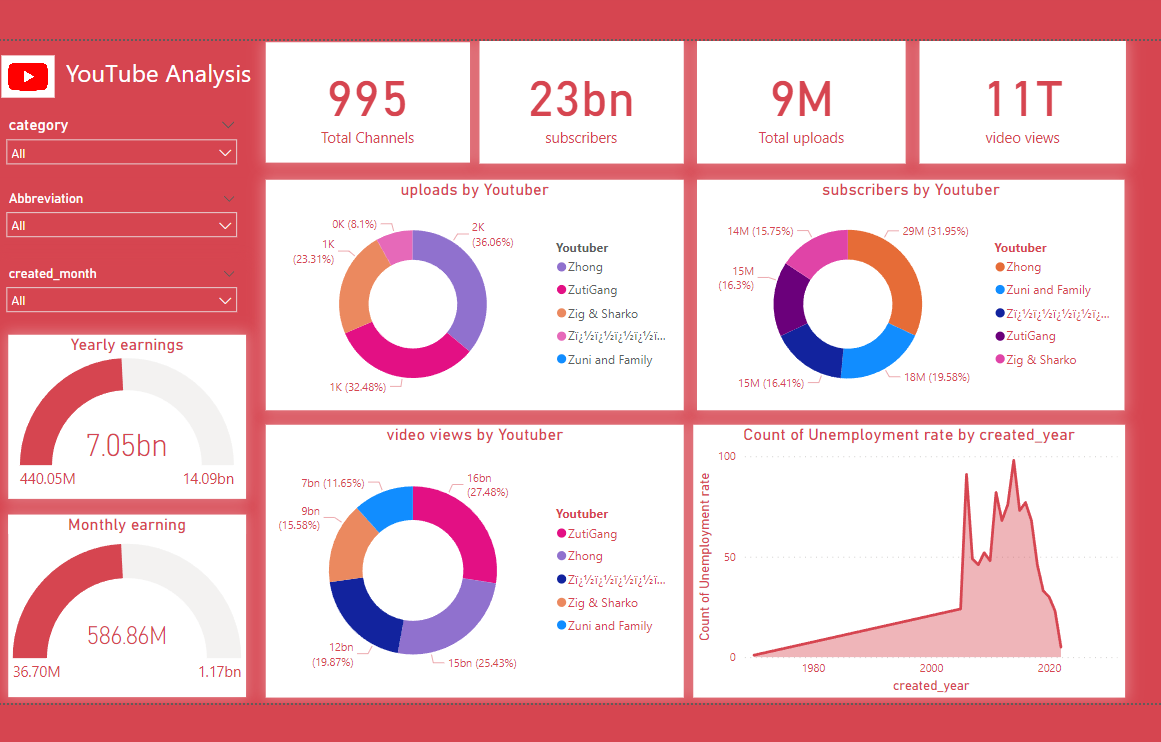

The dashboard page shown, as its layout file describes it:
{"tool":"powerbi","page":{"name":"Page 2","canvas":[1279,726],"ordinal":1},"visuals":[{"type":"donutChart","fields":{"Category":["Onyx Data -DataDNA Dataset Challenge - Top 1000 YouTubers - November 2023.Youtuber"],"Y":["Sum(Onyx Data -DataDNA Dataset Challenge - Top 1000 YouTubers - November 2023.uploads)"]},"box":[295,152.3,458.2,252.4],"z":0},{"type":"textbox","box":[0,11,284,59],"z":1000},{"type":"image","box":[0,11,68.6,56.2],"z":2000},{"type":"card","fields":{"Values":["Count(Onyx Data -DataDNA Dataset Challenge - Top 1000 YouTubers - November 2023.Youtuber)"]},"box":[295,1.4,223.6,131.7],"z":3000},{"type":"card","fields":{"Values":["Sum(Onyx Data -DataDNA Dataset Challenge - Top 1000 YouTubers - November 2023.subscribers)"]},"box":[529.6,0,223.6,134.4],"z":4000},{"type":"card","fields":{"Values":["Sum(Onyx Data -DataDNA Dataset Challenge - Top 1000 YouTubers - November 2023.uploads)"]},"box":[768.3,0,229.1,134.4],"z":5000},{"type":"card","fields":{"Values":["Sum(Onyx Data -DataDNA Dataset Challenge - Top 1000 YouTubers - November 2023.video views)"]},"box":[1011.1,0,226.4,134.4],"z":6000},{"type":"slicer","fields":{"Values":["Onyx Data -DataDNA Dataset Challenge - Top 1000 YouTubers - November 2023.category"]},"box":[0,76.8,273,72.7],"z":7000},{"type":"slicer","fields":{"Values":["Onyx Data -DataDNA Dataset Challenge - Top 1000 YouTubers - November 2023.Abbreviation"]},"box":[0,159.1,273,72.7],"z":8000},{"type":"slicer","fields":{"Values":["Onyx Data -DataDNA Dataset Challenge - Top 1000 YouTubers - November 2023.created_month"]},"box":[0,241.5,273,71.3],"z":9000},{"type":"gauge","title":"Yearly earnings ","fields":{"Y":["Sum(Onyx Data -DataDNA Dataset Challenge - Top 1000 YouTubers - November 2023.highest_yearly_earnings)"],"MinValue":["Sum(Onyx Data -DataDNA Dataset Challenge - Top 1000 YouTubers - November 2023.lowest_yearly_earnings)"]},"box":[12.3,322.4,260.7,179.7],"z":10000},{"type":"gauge","title":"Monthly earning","fields":{"Y":["Sum(Onyx Data -DataDNA Dataset Challenge - Top 1000 YouTubers - November 2023.highest_monthly_earnings)"],"MinValue":["Sum(Onyx Data -DataDNA Dataset Challenge - Top 1000 YouTubers - November 2023.lowest_monthly_earnings)"]},"box":[12.3,520,260.7,200.3],"z":11000},{"type":"donutChart","fields":{"Category":["Onyx Data -DataDNA Dataset Challenge - Top 1000 YouTubers - November 2023.Youtuber"],"Y":["Sum(Onyx Data -DataDNA Dataset Challenge - Top 1000 YouTubers - November 2023.video views)"]},"box":[295,421.2,458.2,299.1],"z":12000},{"type":"donutChart","fields":{"Category":["Onyx Data -DataDNA Dataset Challenge - Top 1000 YouTubers - November 2023.Youtuber"],"Y":["Sum(Onyx Data -DataDNA Dataset Challenge - Top 1000 YouTubers - November 2023.subscribers)"]},"box":[768.3,152.3,469.2,252.4],"z":13000},{"type":"stackedAreaChart","fields":{"Category":["Onyx Data -DataDNA Dataset Challenge - Top 1000 YouTubers - November 2023.created_year"],"Y":["CountNonNull(Onyx Data -DataDNA Dataset Challenge - Top 1000 YouTubers - November 2023.Unemployment rate)"]},"box":[763.8,420.7,473.3,298.9],"z":14000}]}

Visuals, with their boxes on the page's 1279x726 design canvas (x1, y1, x2, y2). These are canvas units, not pixel positions in the 1161x742 screenshot, which may show the page scaled, cropped or inside an application window:
donutChart - Onyx Data -DataDNA Dataset Challenge - Top 1000 YouTubers - November 2023.Youtuber x Sum(Onyx Data -DataDNA Dataset Challenge - Top 1000 YouTubers - November 2023.uploads): {"left": 295, "top": 152, "right": 753, "bottom": 405}
textbox: {"left": 0, "top": 11, "right": 284, "bottom": 70}
image: {"left": 0, "top": 11, "right": 69, "bottom": 67}
card - Count(Onyx Data -DataDNA Dataset Challenge - Top 1000 YouTubers - November 2023.Youtuber): {"left": 295, "top": 1, "right": 519, "bottom": 133}
card - Sum(Onyx Data -DataDNA Dataset Challenge - Top 1000 YouTubers - November 2023.subscribers): {"left": 530, "top": 0, "right": 753, "bottom": 134}
card - Sum(Onyx Data -DataDNA Dataset Challenge - Top 1000 YouTubers - November 2023.uploads): {"left": 768, "top": 0, "right": 997, "bottom": 134}
card - Sum(Onyx Data -DataDNA Dataset Challenge - Top 1000 YouTubers - November 2023.video views): {"left": 1011, "top": 0, "right": 1238, "bottom": 134}
slicer - Onyx Data -DataDNA Dataset Challenge - Top 1000 YouTubers - November 2023.category: {"left": 0, "top": 77, "right": 273, "bottom": 150}
slicer - Onyx Data -DataDNA Dataset Challenge - Top 1000 YouTubers - November 2023.Abbreviation: {"left": 0, "top": 159, "right": 273, "bottom": 232}
slicer - Onyx Data -DataDNA Dataset Challenge - Top 1000 YouTubers - November 2023.created_month: {"left": 0, "top": 242, "right": 273, "bottom": 313}
"Yearly earnings " gauge: {"left": 12, "top": 322, "right": 273, "bottom": 502}
"Monthly earning" gauge: {"left": 12, "top": 520, "right": 273, "bottom": 720}
donutChart - Onyx Data -DataDNA Dataset Challenge - Top 1000 YouTubers - November 2023.Youtuber x Sum(Onyx Data -DataDNA Dataset Challenge - Top 1000 YouTubers - November 2023.video views): {"left": 295, "top": 421, "right": 753, "bottom": 720}
donutChart - Onyx Data -DataDNA Dataset Challenge - Top 1000 YouTubers - November 2023.Youtuber x Sum(Onyx Data -DataDNA Dataset Challenge - Top 1000 YouTubers - November 2023.subscribers): {"left": 768, "top": 152, "right": 1238, "bottom": 405}
stackedAreaChart - Onyx Data -DataDNA Dataset Challenge - Top 1000 YouTubers - November 2023.created_year x CountNonNull(Onyx Data -DataDNA Dataset Challenge - Top 1000 YouTubers - November 2023.Unemployment rate): {"left": 764, "top": 421, "right": 1237, "bottom": 720}
